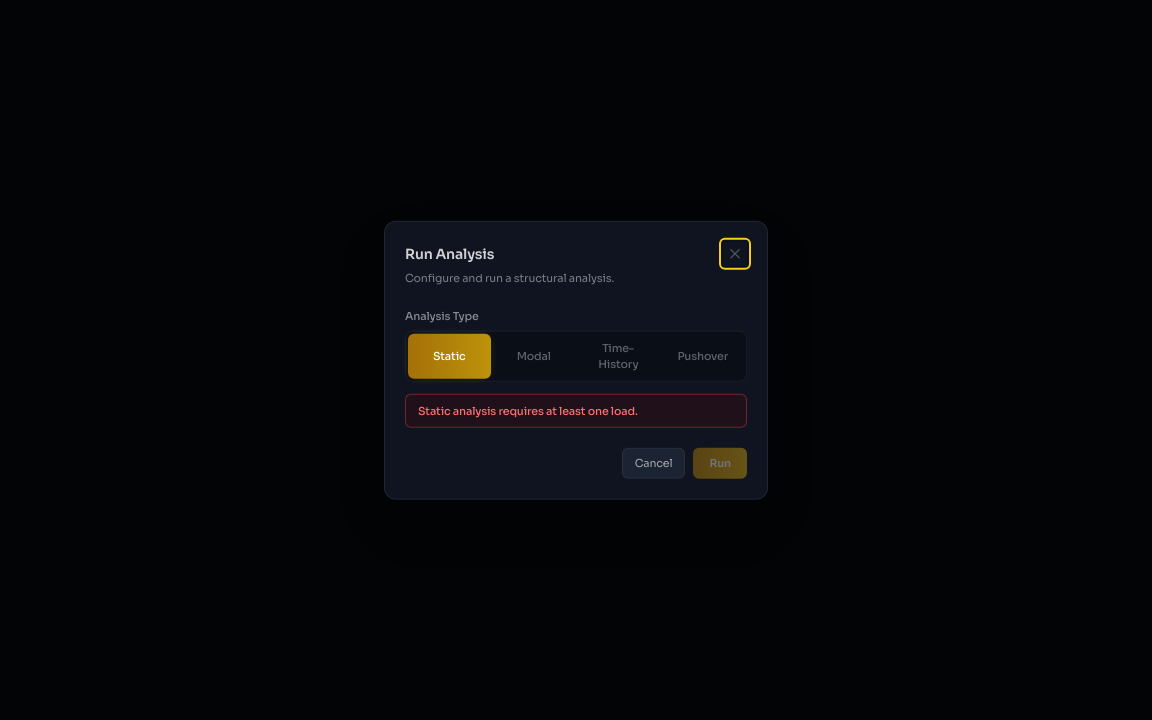
Test: AnalysisDialog — pushover params › shows pushover parameters when pushover type is selected
Click the button "Pushover": (703, 356) [662,333,744,378]
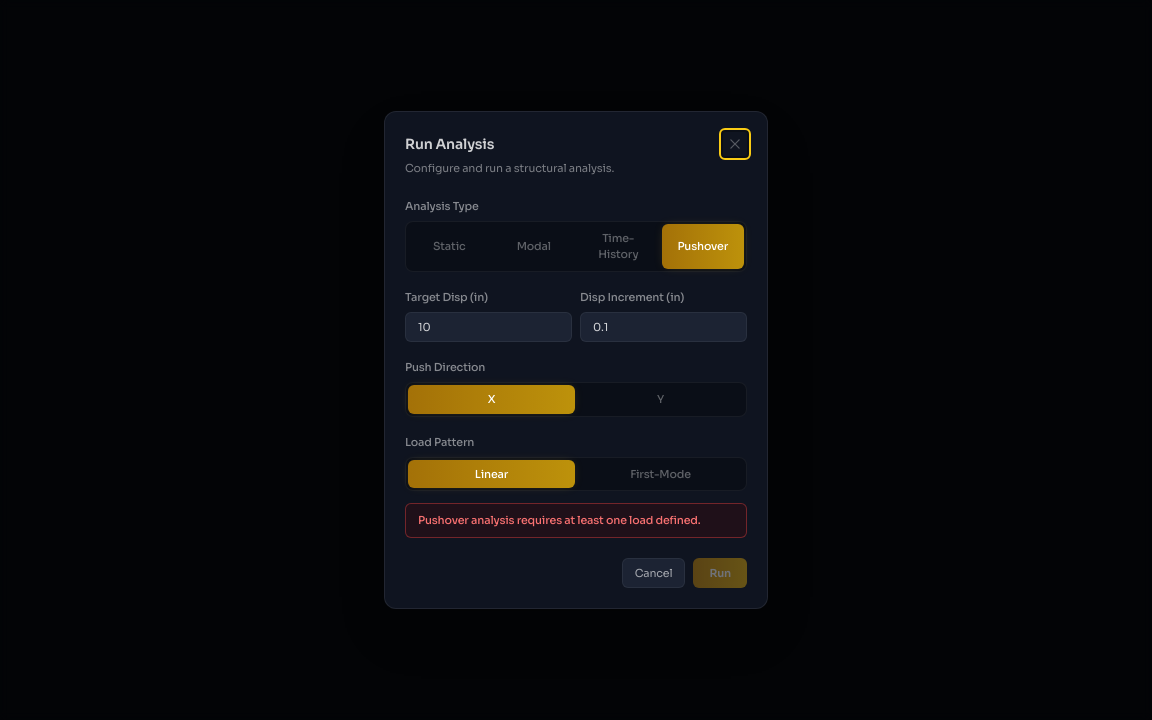
Now the text "Target Disp (in)" is shown, box [405,290,488,304]
Now the text "Disp Increment (in)" is shown, box [580,290,684,304]
Now the text "Push Direction" is shown, box [405,360,485,374]
